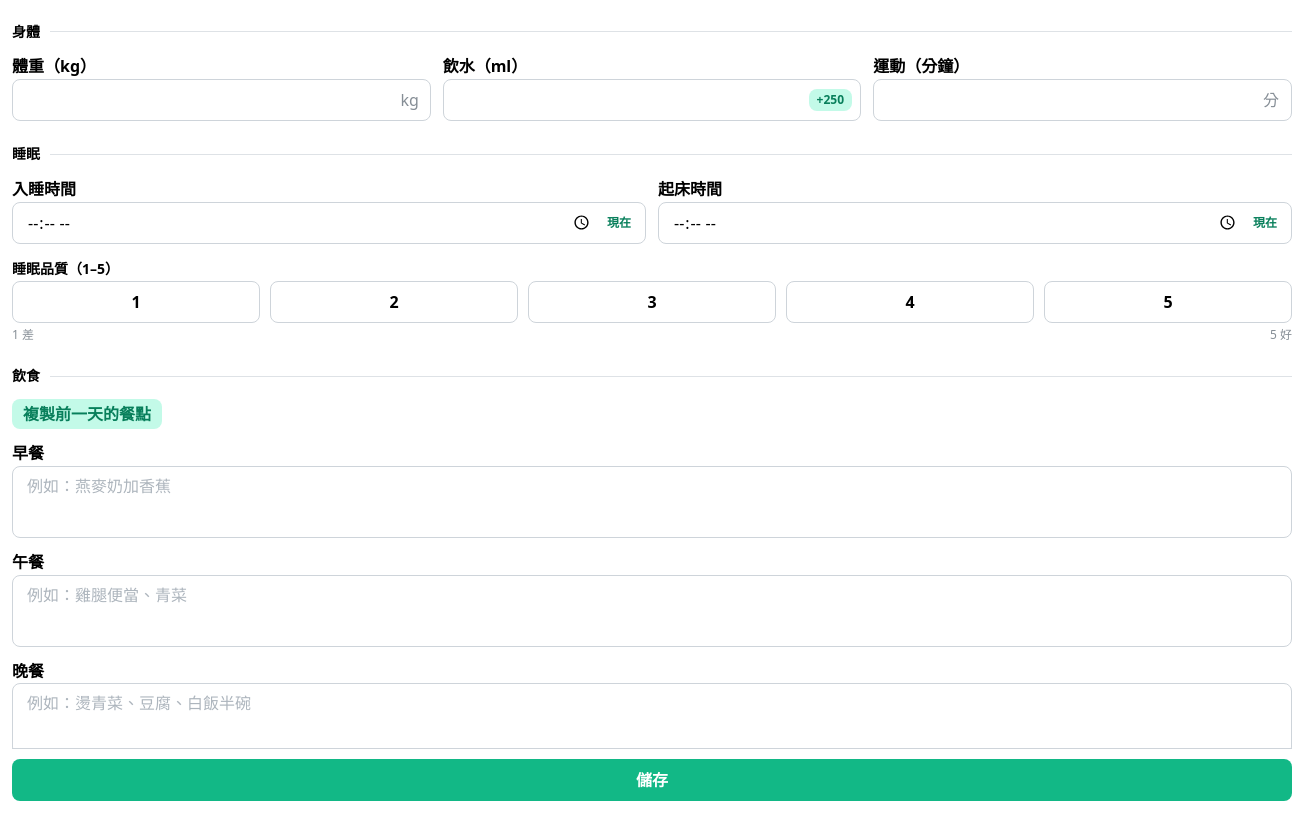
EntryForm：評分按鈕 › 滑鼠移到數字上會顯示該分數的說明
The image size is (1304, 832).
Hover over the button "1" at x=136, y=302, box [12,281,260,323]
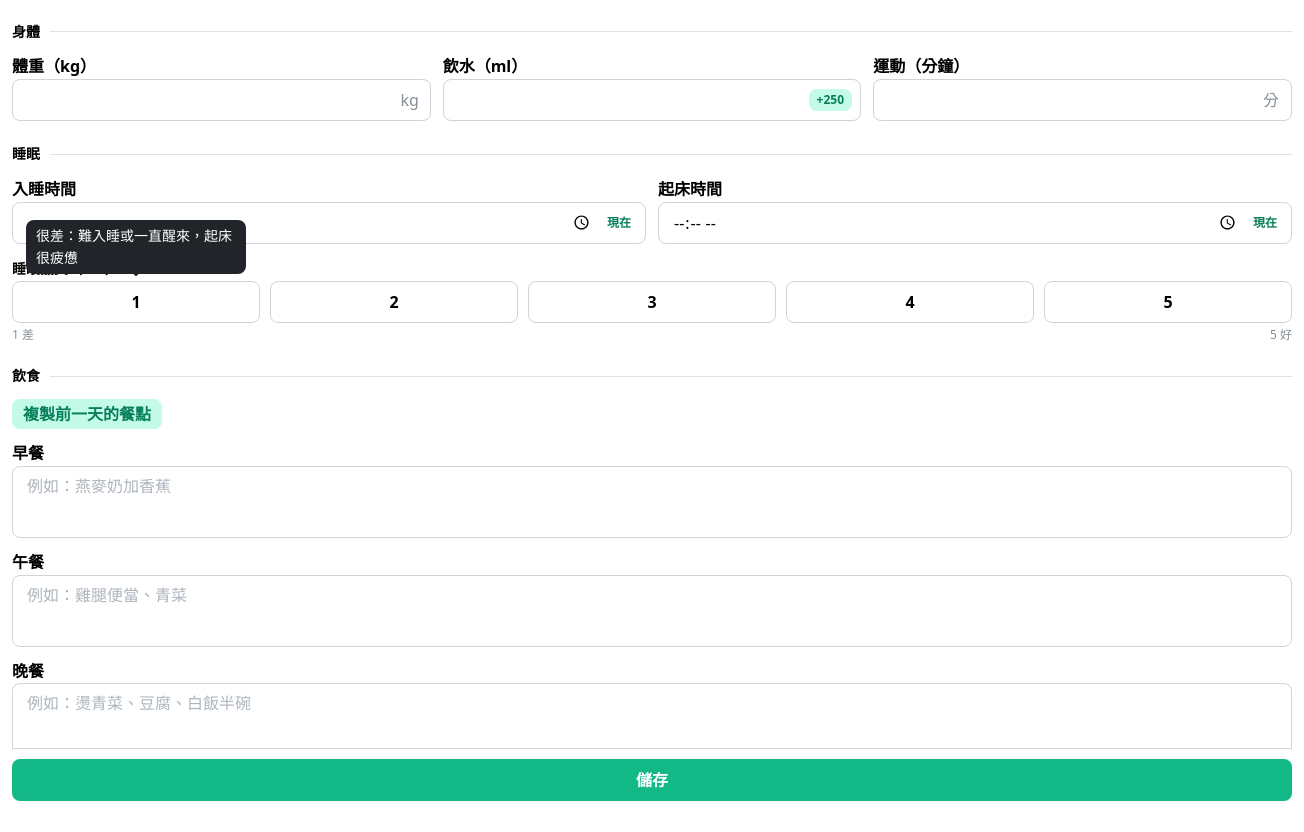
Expected: the tooltip reads "很差：難入睡或一直醒來，起床很疲憊", [36,226,232,267]
Move the pointer off the button "1", box [12,281,260,323]
(page scrolled)
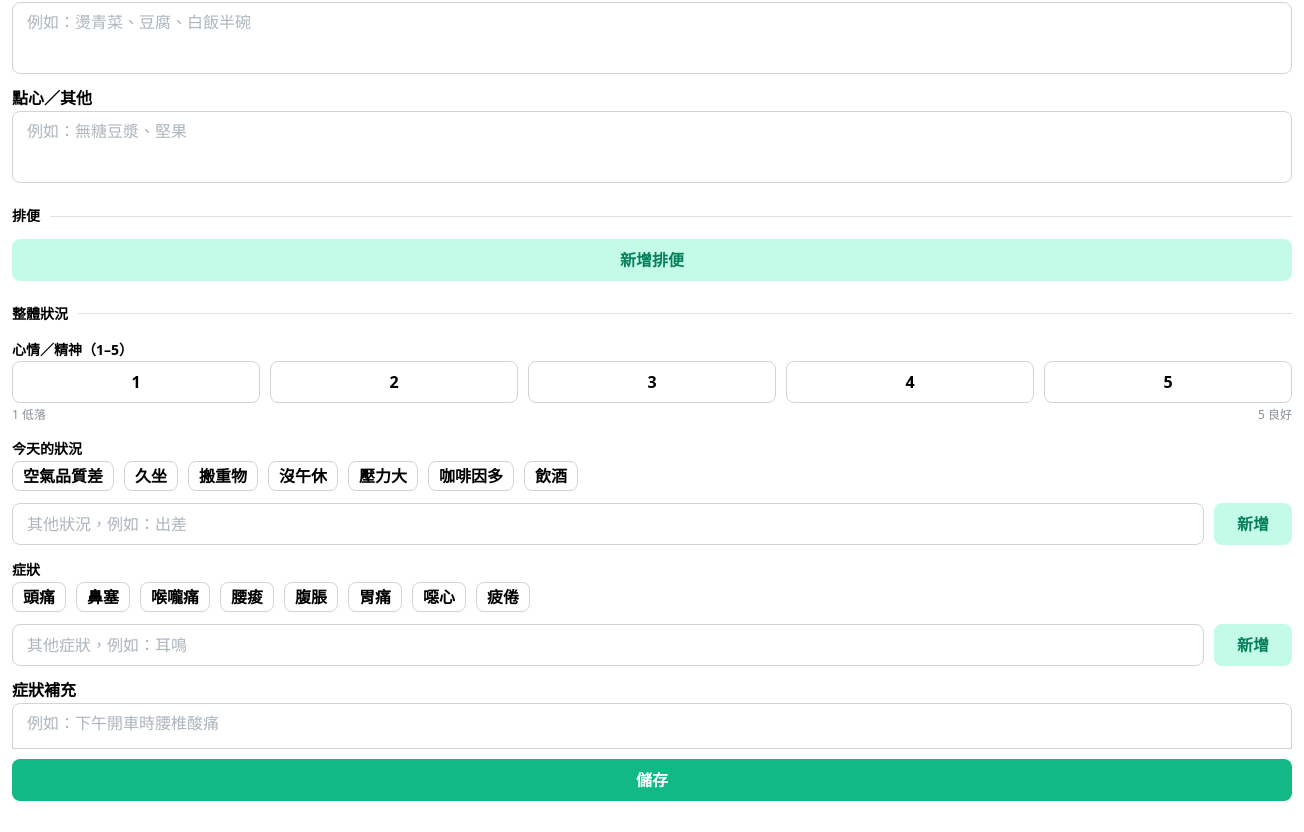
Hover over the button "5" at x=1168, y=382, box [1044,361,1292,403]
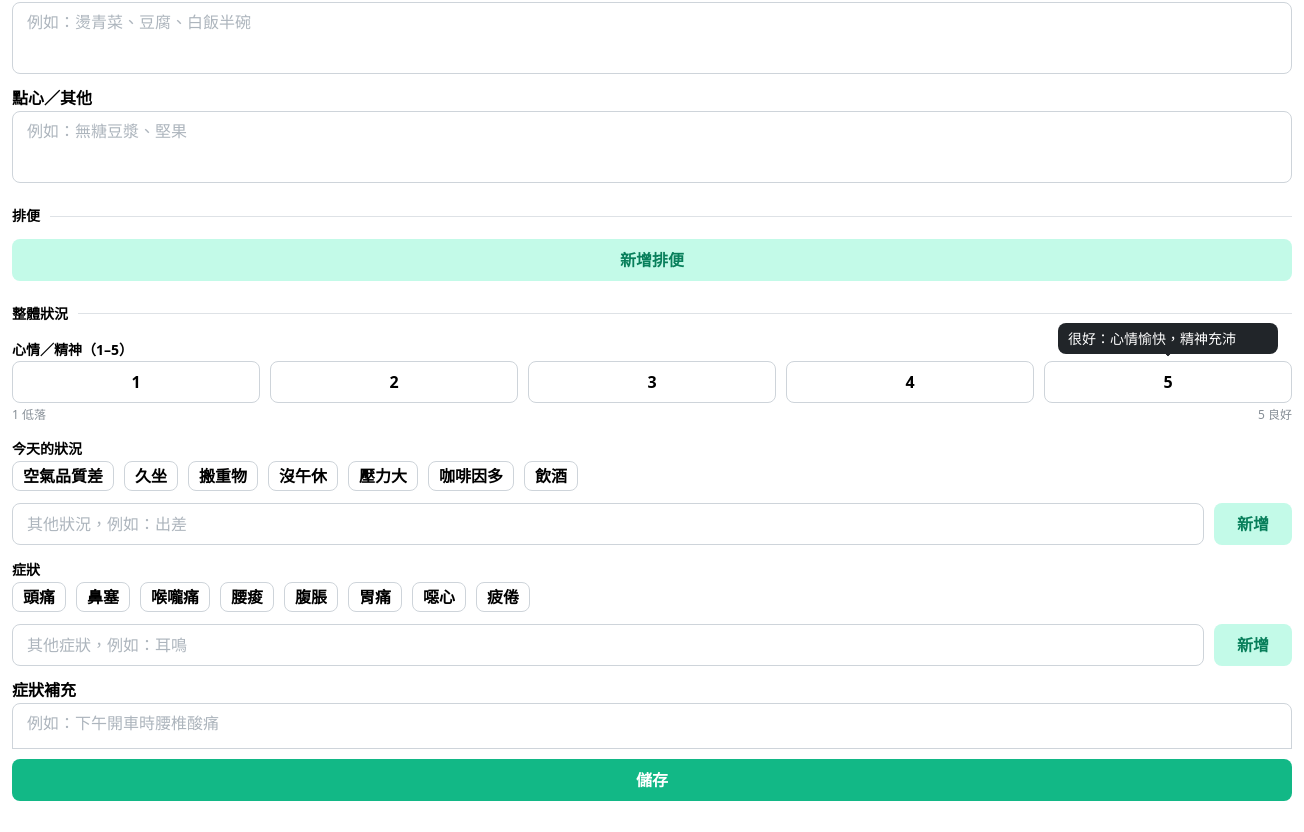
Expected: the tooltip "很好：心情愉快，精神充沛" is shown, [1058,323,1278,354]
